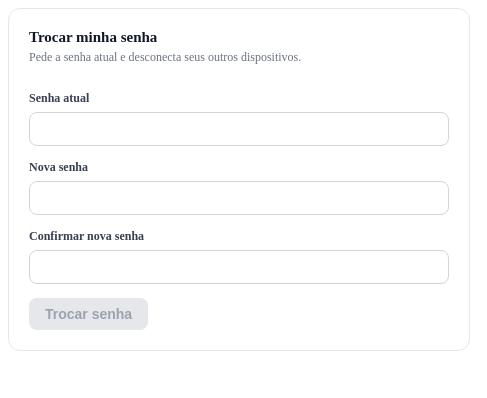
ChangePasswordCard › 400 do backend vira 'Senha atual incorreta'
The image size is (487, 398).
Type "errada" into the password field labelled "Senha atual" at (239, 129), box [29, 112, 449, 146]
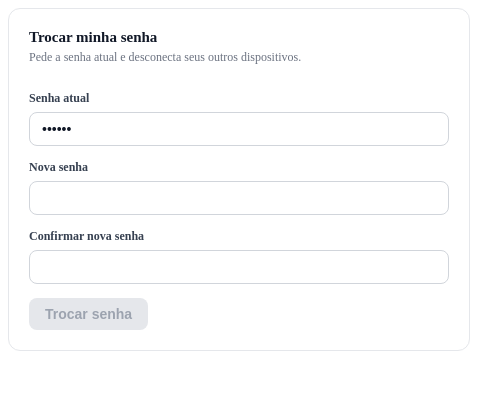
Type "novaSenha123" into the password field labelled "Nova senha" at (239, 198), box [29, 181, 449, 215]
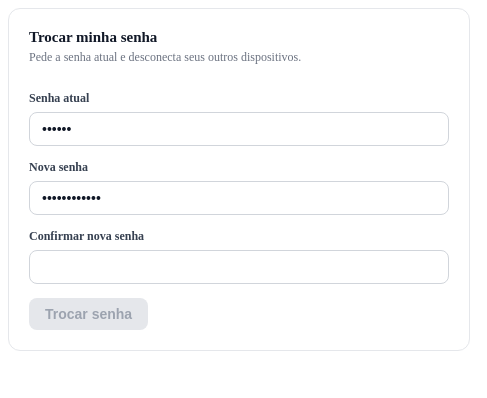
Type "novaSenha123" into the password field labelled "Confirmar nova senha" at (239, 267), box [29, 250, 449, 284]
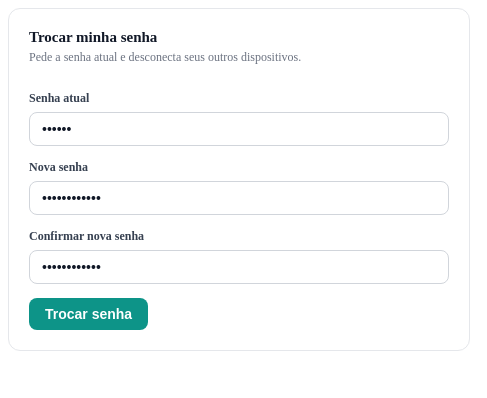
Click the button "Trocar senha" at (89, 314), box [29, 298, 148, 330]
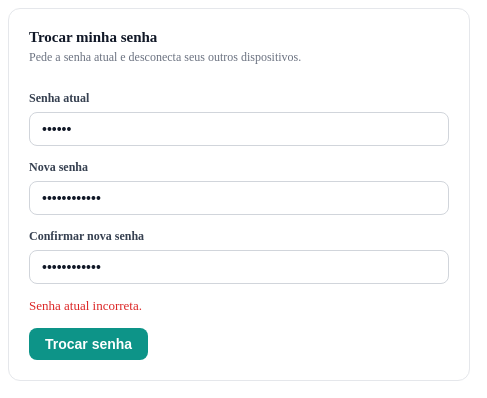
Now the text "Senha atual incorreta." is shown, box [29, 298, 142, 313]
